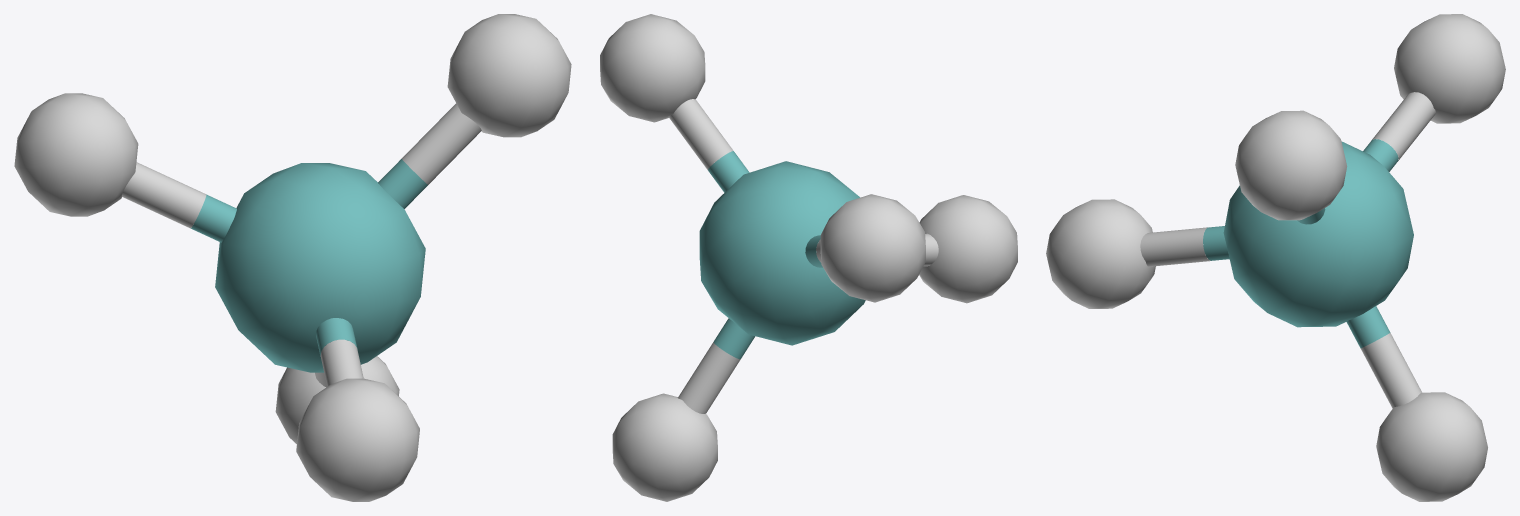
3 views of the same model, side by side, from view 1: azimuth 30°, elevation 25°; view 2: azimuth 150°, elevation 25°; view 3: azimuth 270°, elevation 25° (orthographic). The views are drawn at different scales.
Parts seen in each view (by area): view 1: vmd_mol1_rep0; view 2: vmd_mol1_rep0; view 3: vmd_mol1_rep0.
Boxes of the visible parts, x1,y1,x2,y2 form: vmd_mol1_rep0: (14, 14, 571, 501); vmd_mol1_rep0: (600, 14, 1017, 501); vmd_mol1_rep0: (1046, 14, 1505, 501).
Size of the model in its own units: 1.75 by 1.74 by 1.72.
